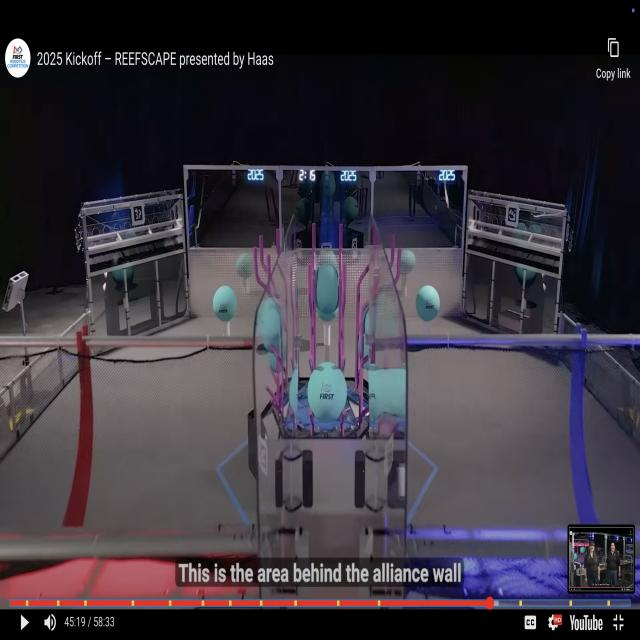algae: (308, 359, 349, 423), (315, 259, 340, 323), (413, 282, 442, 323), (212, 285, 240, 323), (358, 309, 371, 370)
coral: (322, 319, 333, 348), (224, 320, 232, 348), (424, 320, 432, 340)
